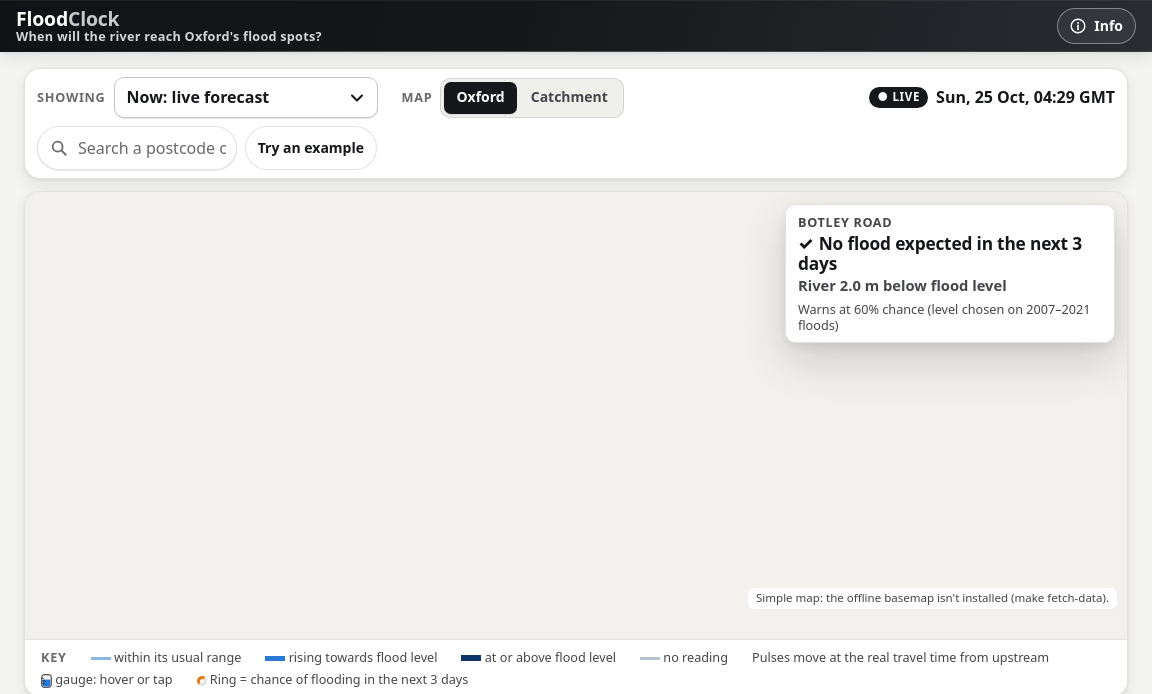
Test: App smoke test, map v3 (?map=gl) › draws the GL map with the gauges and only the spots with data, without console errors
The image size is (1152, 694).
Click the button "Catchment": point(569, 98) 519,82 -> 620,114
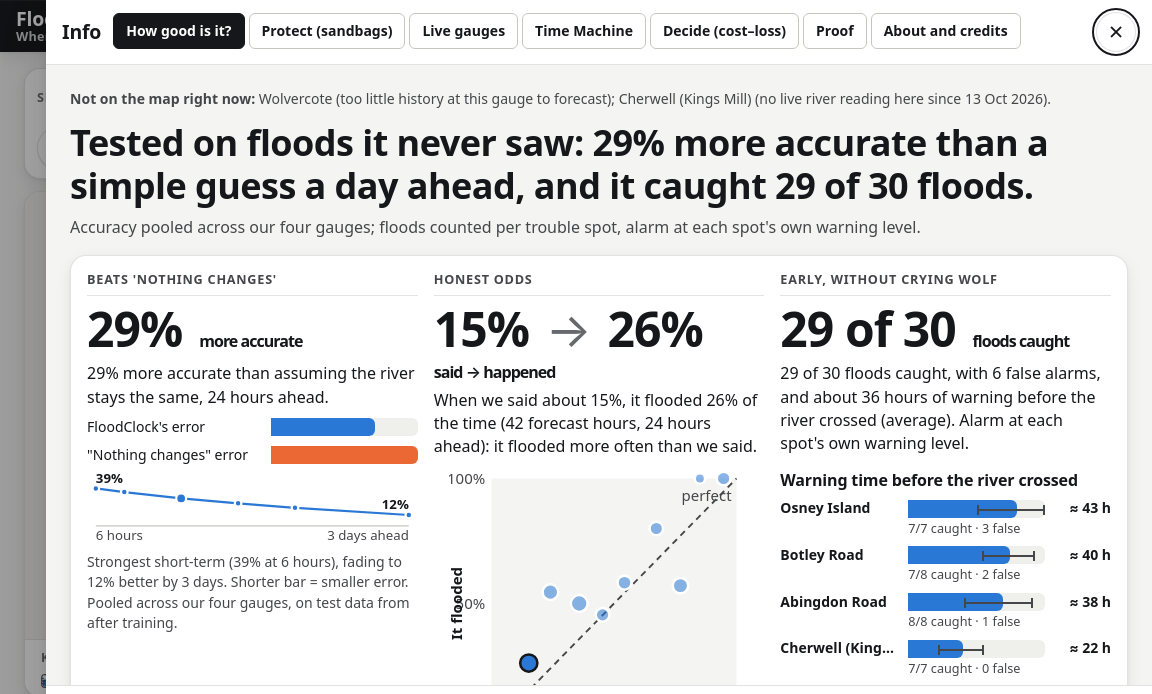
Now the element that starts with "Not on the map right now:" shows "Wolvercote", box 259,89 -> 332,108
